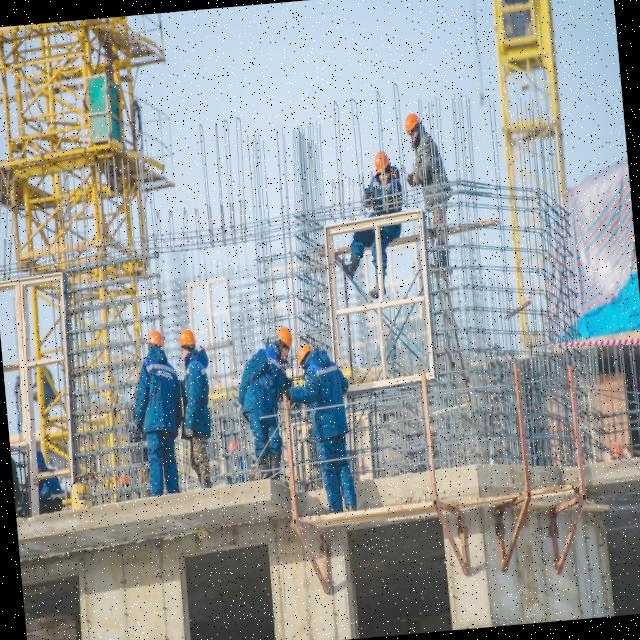Helmet: (145, 330, 167, 353), (177, 330, 198, 351), (276, 326, 293, 351), (374, 151, 391, 176), (404, 113, 421, 137), (296, 345, 314, 364)
NoJacket: (243, 352, 290, 423), (142, 354, 183, 435), (308, 356, 343, 441), (184, 353, 214, 437)
